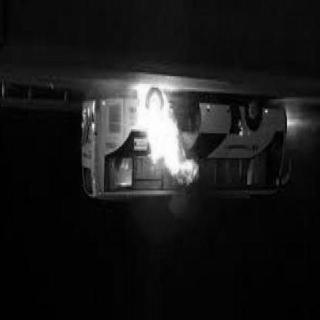Fire: (109, 78, 204, 198)
